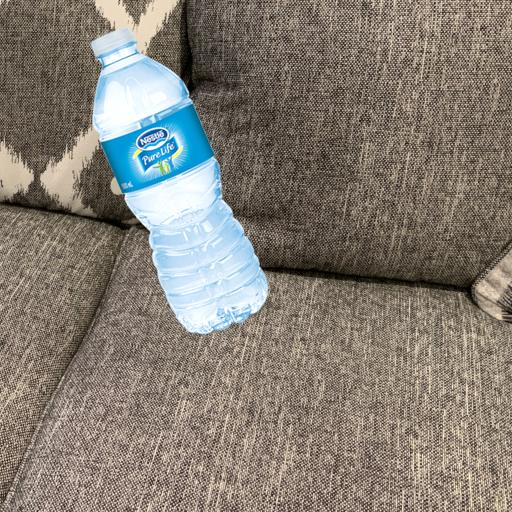plastic_bottle: (91, 28, 270, 334)
